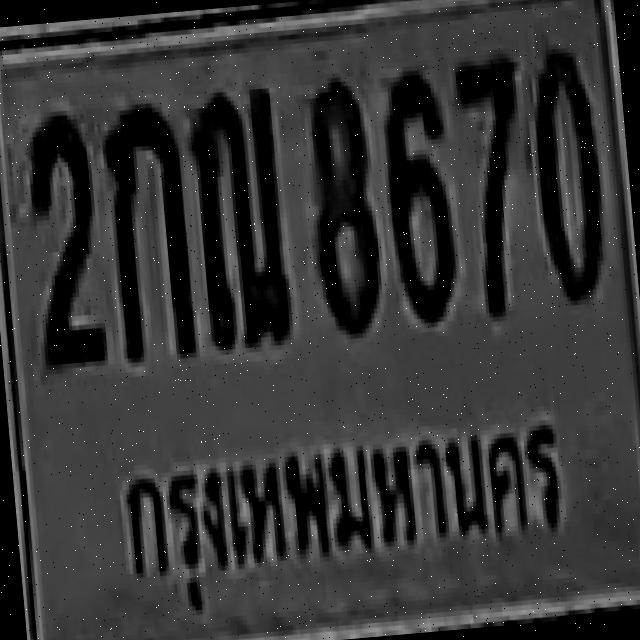0: (525, 43, 610, 304)
10GorGai: (100, 96, 194, 358)
2: (20, 104, 105, 370)
28NorNen: (185, 85, 292, 348)
6: (376, 63, 460, 324)
7: (450, 52, 534, 309), (450, 52, 530, 262)
8: (298, 70, 384, 336)
Bangkok: (90, 396, 585, 626)
